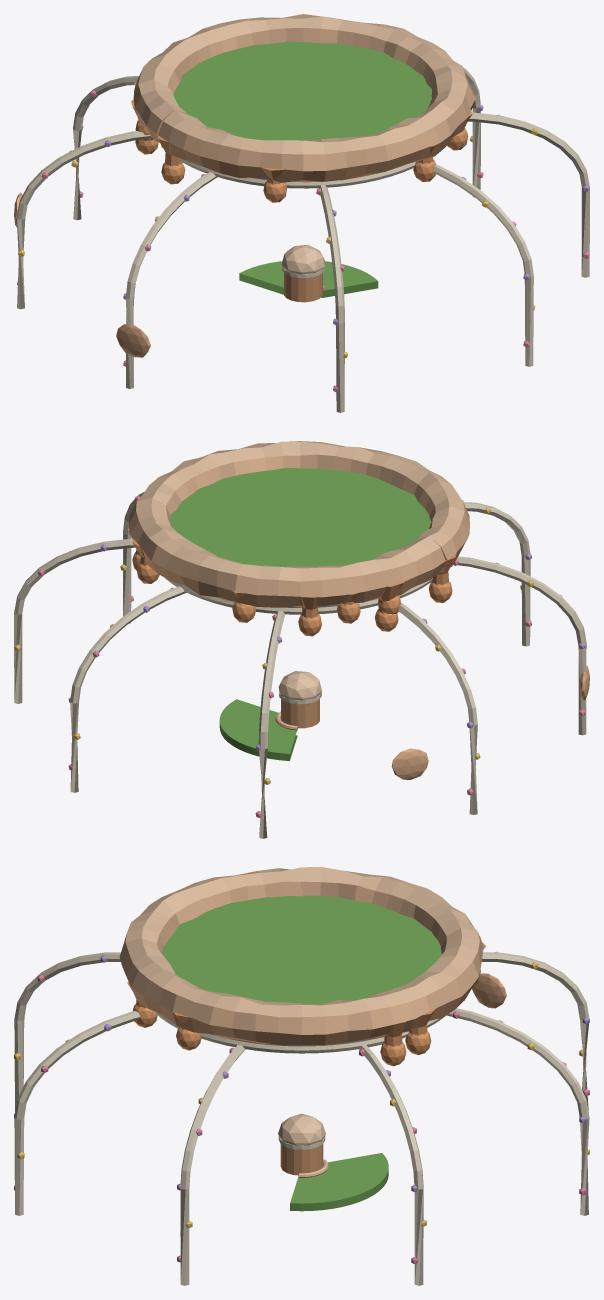
The model's file is goo_jar_trim_4_top@garden.fbx.
3 views of the same model, one above another, from view 1: azimuth 30°, elevation 25°; view 2: azimuth 150°, elevation 25°; view 3: azimuth 270°, elevation 25° (orthographic). The views are drawn at different scales.
Visible parts, largest first — view 1: goo_jar_trim_4_top; view 2: goo_jar_trim_4_top; view 3: goo_jar_trim_4_top.
Boxes of the visible parts, left/top/right/bottom form: goo_jar_trim_4_top: left=14, top=14, right=589, bottom=412; goo_jar_trim_4_top: left=14, top=441, right=589, bottom=838; goo_jar_trim_4_top: left=14, top=867, right=589, bottom=1285.
Bounding box in the file's own units: 41.12 × 18.79 × 40.81.
